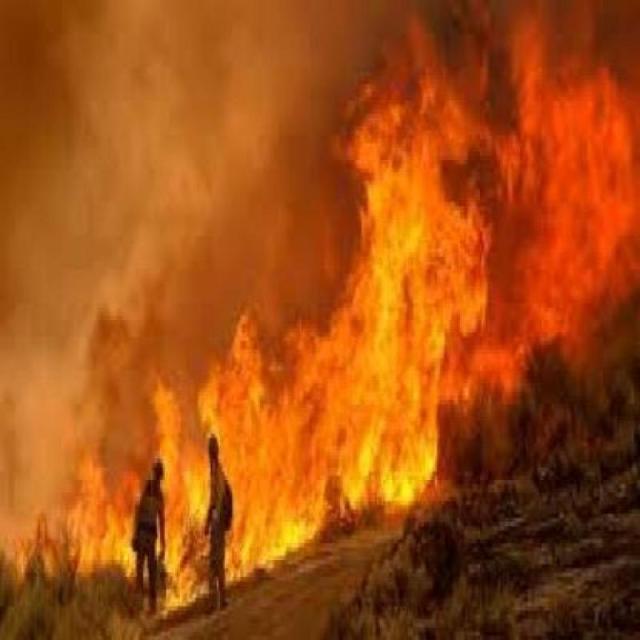Fire: (165, 164, 640, 627)
Smoke: (32, 29, 308, 320)
